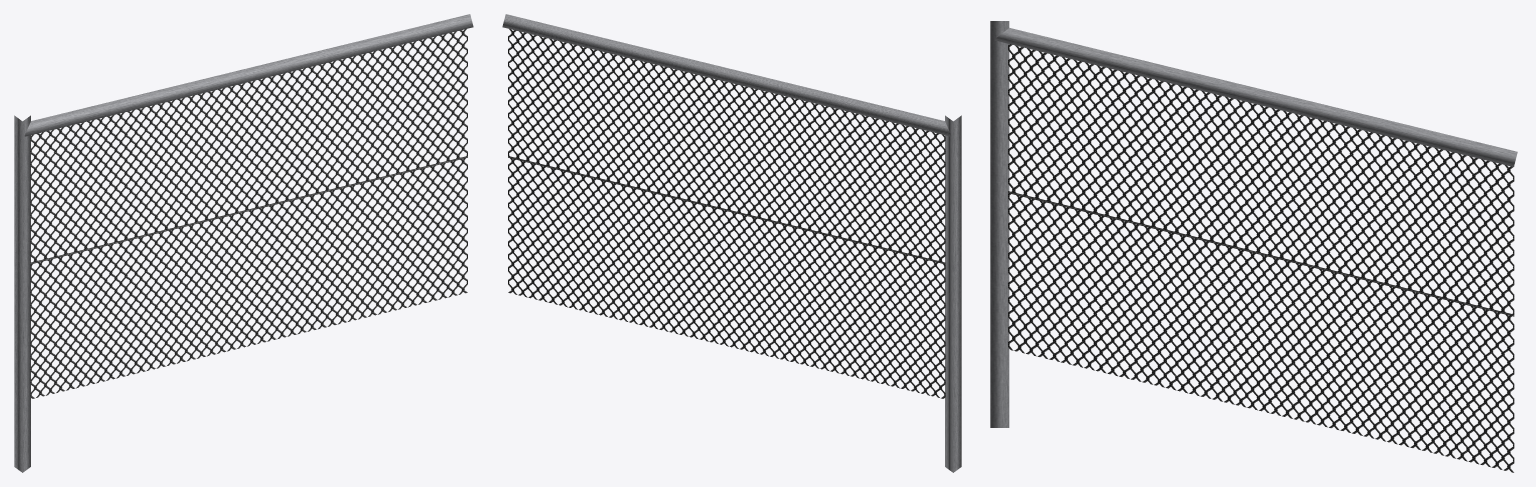
Rendered from fence-tall-chainlink-1rail-start-1s-cbj_LOD02.gltf.
3 renders of one model, left to right at view 1: azimuth 30°, elevation 25°; view 2: azimuth 150°, elevation 25°; view 3: azimuth 330°, elevation 25°, orthographic. The views are drawn at different scales.
Visible parts, largest first — view 1: cube02; view 2: cube02; view 3: cube02.
Boxes of the visible parts, x1,y1,x2,y2 form: cube02: (14, 14, 473, 472); cube02: (502, 14, 961, 472); cube02: (990, 21, 1517, 472).
Size of what is drawn, in the model's own units: 3.13 by 2.33 by 0.0998.
